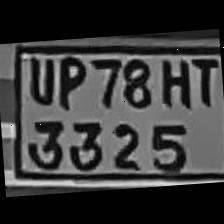2: (102, 114, 144, 170)
3: (61, 111, 106, 170), (25, 113, 67, 170)
5: (140, 113, 194, 169)
7: (85, 50, 122, 110)
8: (118, 50, 156, 110)
H: (153, 48, 194, 108)
P: (51, 50, 90, 108)
T: (186, 48, 220, 108)
U: (22, 47, 58, 105)
